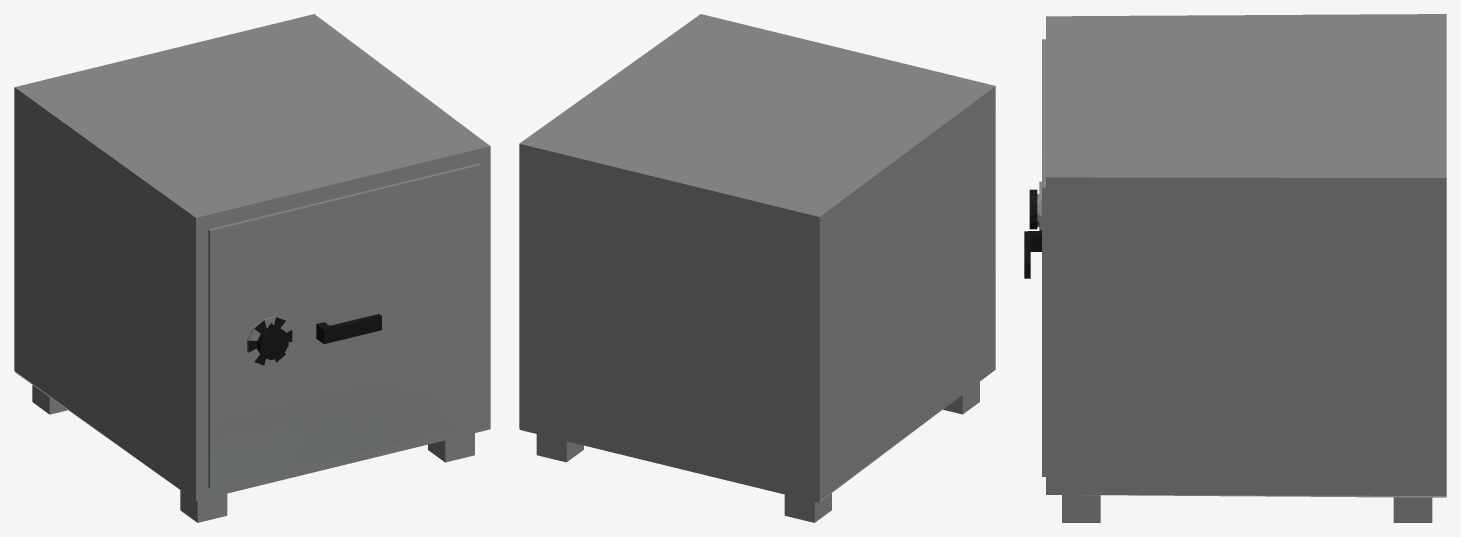
The model's file is pp.safe_n4eg.glb.
The picture shows the model from 3 angles, left to right: view 1: azimuth 30°, elevation 25°; view 2: azimuth 150°, elevation 25°; view 3: azimuth 270°, elevation 25°; orthographic projection. The views are drawn at different scales.
Parts seen in each view (by area): view 1: Safe; view 2: Safe; view 3: Safe.
Part boxes in pixels (x1=…): Safe: x1=14, y1=14, x2=490, y2=522; Safe: x1=519, y1=14, x2=995, y2=522; Safe: x1=1024, y1=14, x2=1446, y2=522.
Size of the model in its own units: 0.9034 by 0.9006 by 0.9828.
1 material, 1 textured.
